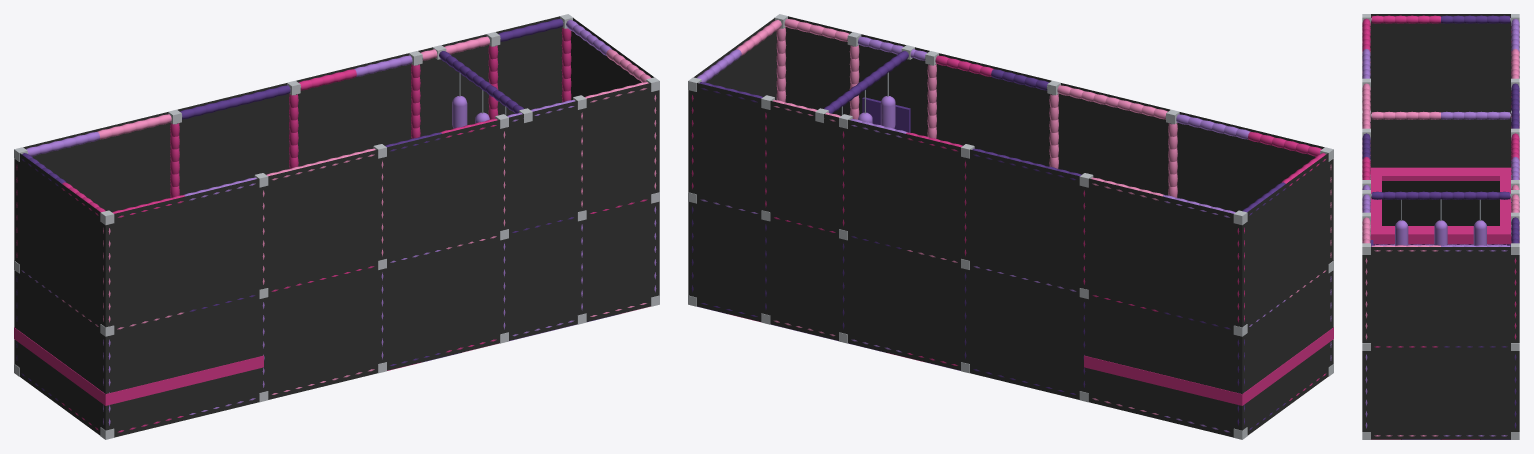
The model's file is web.glb.
3 renders of one model, left to right at view 1: azimuth 30°, elevation 25°; view 2: azimuth 150°, elevation 25°; view 3: azimuth 270°, elevation 25°, orthographic. The views are drawn at different scales.
Parts seen in each view (by area): view 1: rede, isotubo, acolchoado, metal; view 2: rede, isotubo, acolchoado, metal, plataforma; view 3: rede, isotubo, acolchoado, borracha, metal.
Boxes of the visible parts, x1,y1,x2,y2 form: rede: [14, 16, 659, 437]; isotubo: [16, 19, 656, 432]; acolchoado: [14, 96, 489, 405]; metal: [14, 14, 659, 439]; rede: [688, 16, 1333, 437]; isotubo: [691, 19, 1331, 432]; acolchoado: [858, 96, 1333, 405]; metal: [688, 14, 1333, 439]; plataforma: [862, 97, 910, 132]; rede: [1362, 14, 1519, 439]; isotubo: [1362, 15, 1519, 436]; acolchoado: [1362, 167, 1519, 245]; borracha: [1382, 181, 1499, 225]; metal: [1362, 14, 1519, 439].
Size of the model in its own units: 7 by 2.7 by 2.
Materials: 9 (9 with a texture image).
